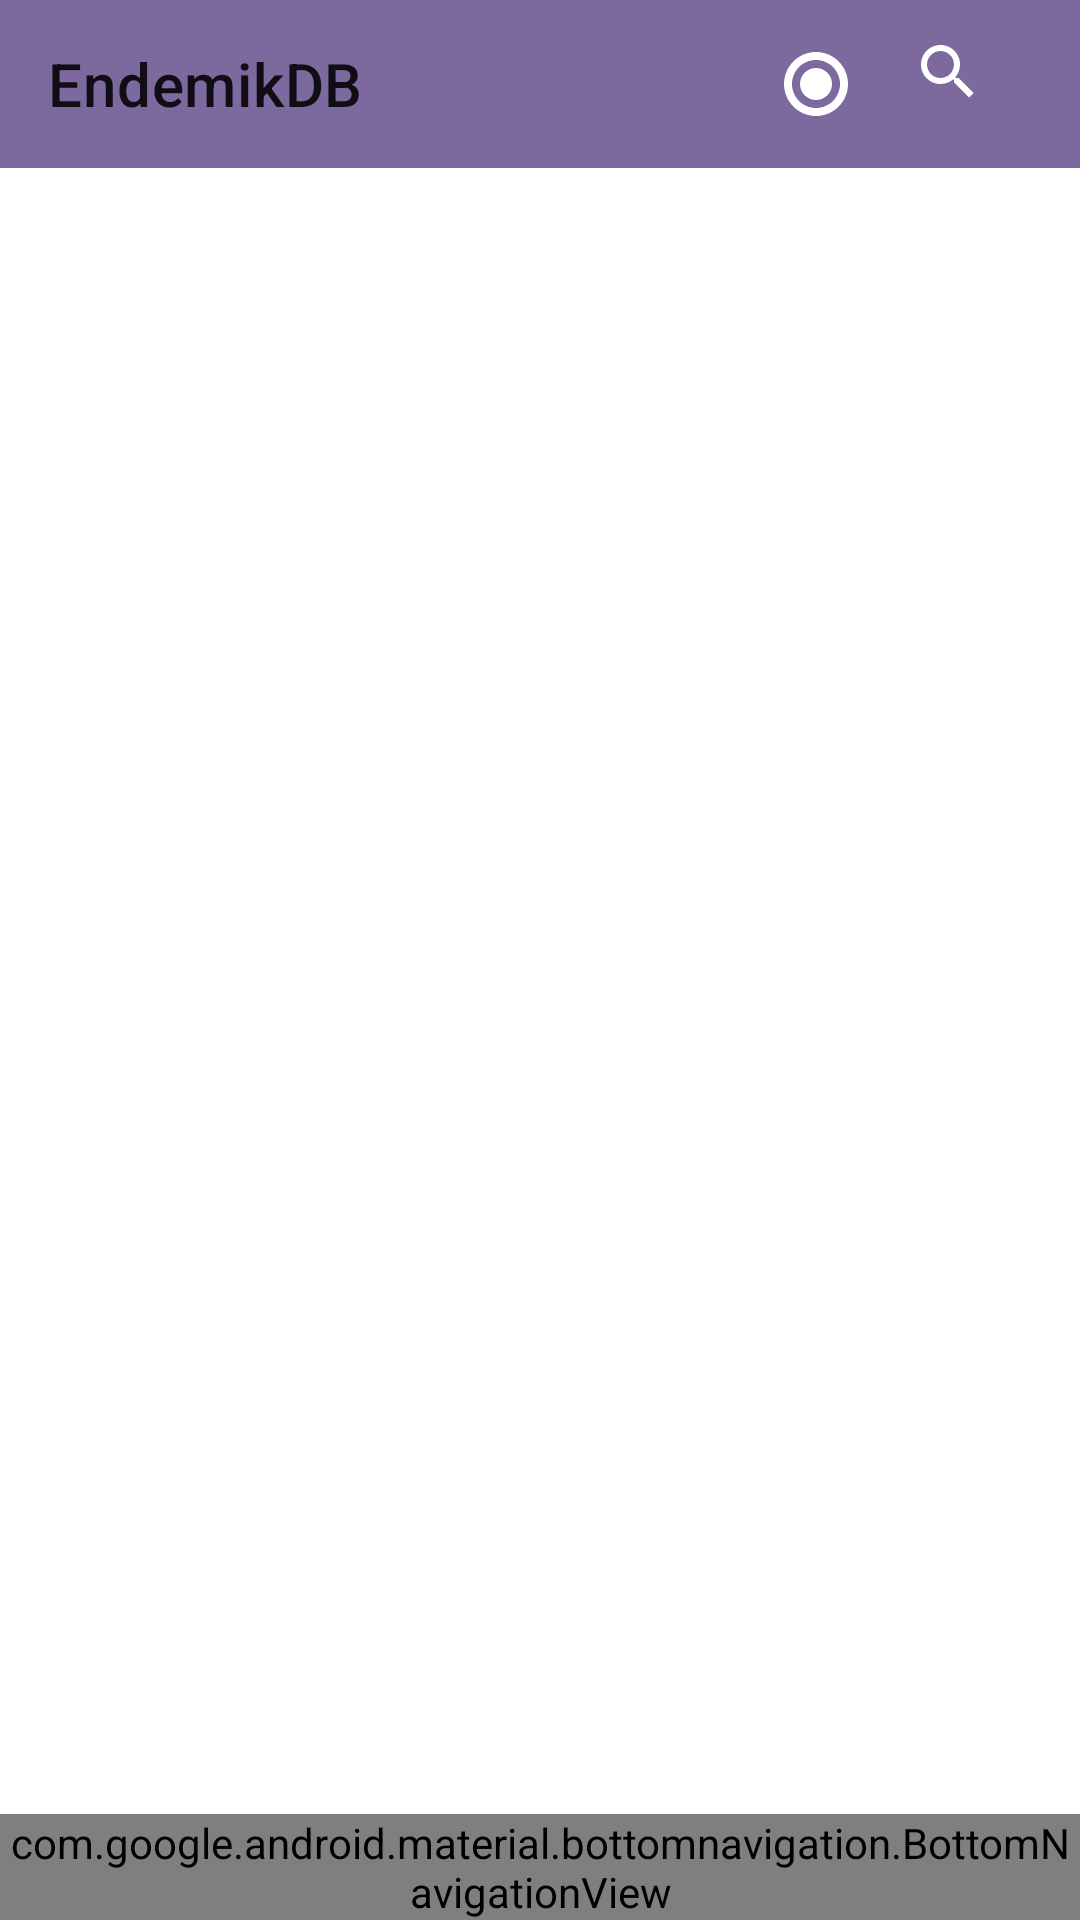

Point at icon controls on the screen. Image size 1080x1920, points as (x=x, y=y).
search: (x=947, y=71)
